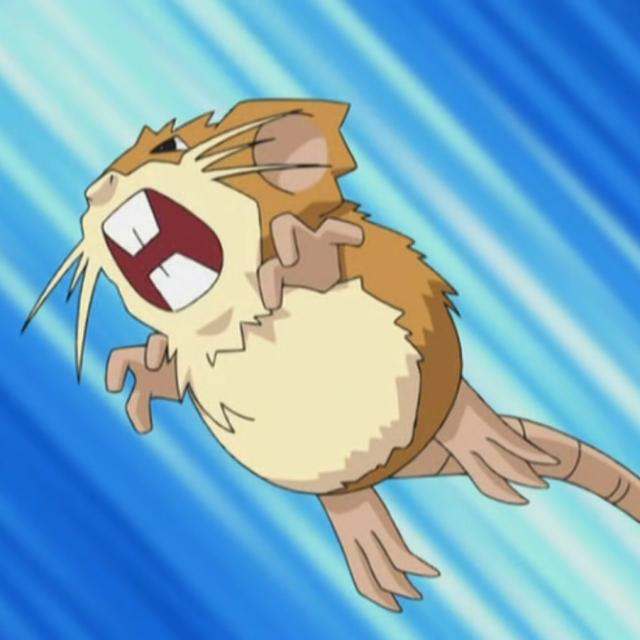Raticate: (70, 97, 494, 580)
